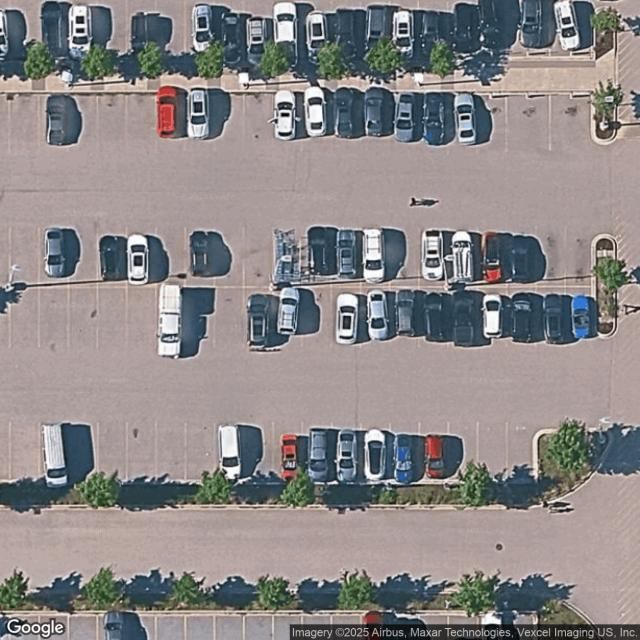car: (42, 424, 69, 487), (273, 2, 297, 63), (553, 0, 581, 51), (67, 5, 92, 59), (362, 228, 386, 282), (218, 424, 241, 480), (40, 1, 63, 56), (44, 94, 68, 146), (454, 93, 478, 144), (335, 228, 359, 279), (450, 231, 474, 282), (247, 294, 270, 346), (304, 88, 328, 137), (336, 429, 358, 482), (220, 12, 242, 65), (188, 230, 212, 278), (157, 88, 180, 138), (335, 294, 358, 344), (364, 429, 386, 481), (423, 229, 444, 283), (454, 3, 476, 54), (423, 93, 444, 146), (187, 90, 210, 138), (277, 287, 300, 335), (479, 0, 502, 48), (127, 234, 149, 284), (512, 291, 534, 341), (393, 434, 415, 484), (393, 91, 414, 143), (307, 226, 329, 275), (483, 231, 502, 286), (334, 87, 354, 139), (306, 11, 328, 58), (246, 16, 268, 63), (44, 229, 66, 276), (520, 0, 542, 47), (542, 293, 563, 342), (367, 289, 387, 339), (310, 427, 328, 482), (276, 90, 297, 137), (481, 294, 503, 338), (570, 295, 592, 339), (363, 86, 382, 136), (336, 8, 355, 58), (366, 5, 387, 50), (510, 234, 529, 283), (392, 10, 412, 56), (191, 3, 211, 49), (395, 290, 415, 336), (100, 235, 120, 281), (453, 296, 473, 342), (422, 9, 442, 52), (426, 292, 443, 342), (102, 610, 130, 640), (280, 434, 298, 480), (362, 611, 387, 640), (130, 12, 148, 52), (427, 434, 442, 476), (481, 613, 503, 640), (0, 8, 8, 56)
lot_boundary: (1, 85, 640, 488), (0, 0, 640, 56), (0, 608, 640, 639)
objects: (157, 285, 184, 357)
